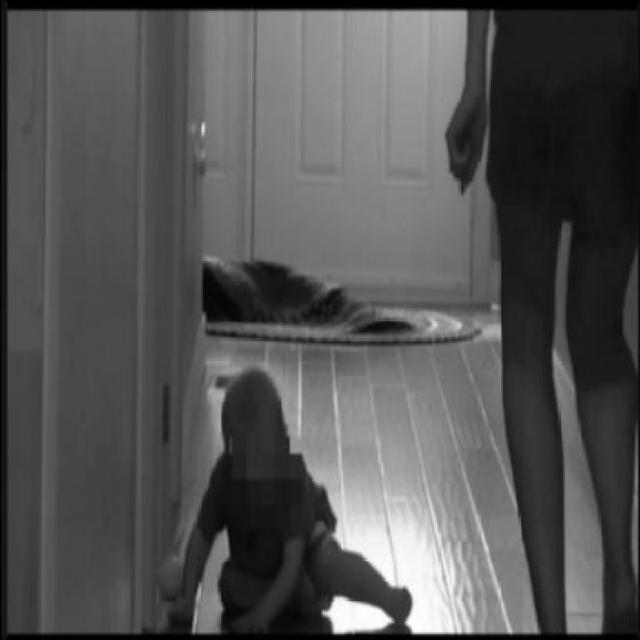child: (169, 363, 415, 640)
